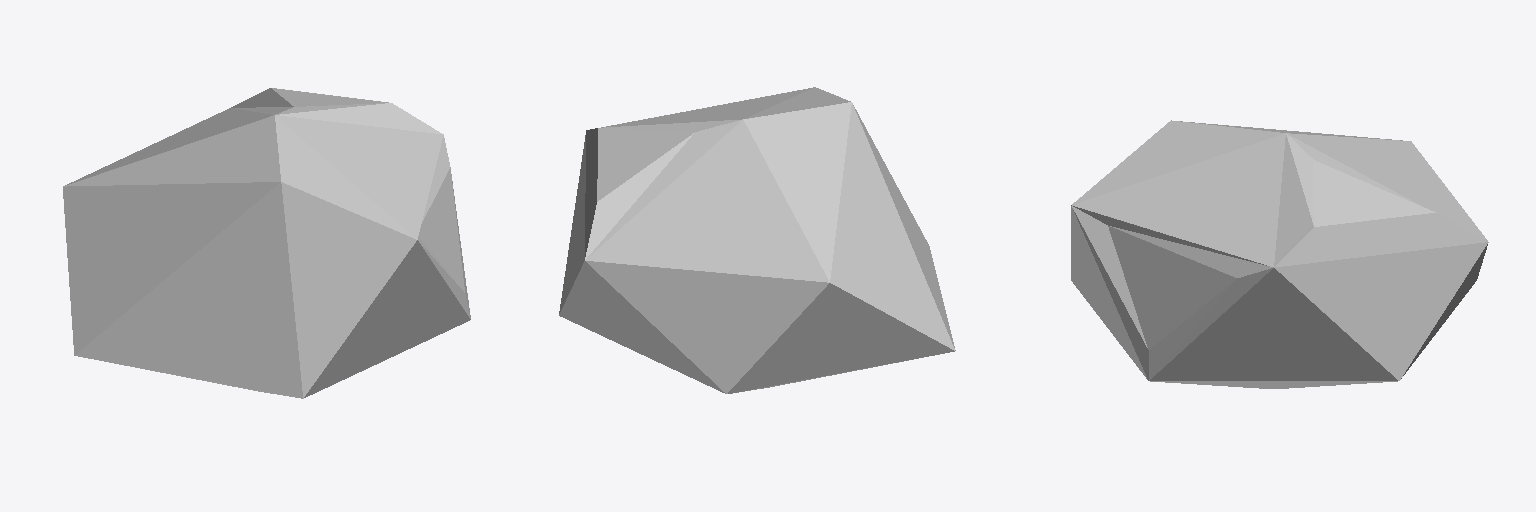
Rendered from rock.obj.
3 views of the same model, side by side, from view 1: azimuth 30°, elevation 25°; view 2: azimuth 150°, elevation 25°; view 3: azimuth 270°, elevation 25° (orthographic).
Parts seen in each view (by area): view 1: Icosphere; view 2: Icosphere; view 3: Icosphere.
Boxes of the visible parts, box(x1,y1,x2,y2) form: Icosphere: box(63, 88, 470, 398); Icosphere: box(559, 87, 955, 393); Icosphere: box(1071, 120, 1488, 388).
Bounding box in the file's own units: 26.54 × 18.32 × 25.98.